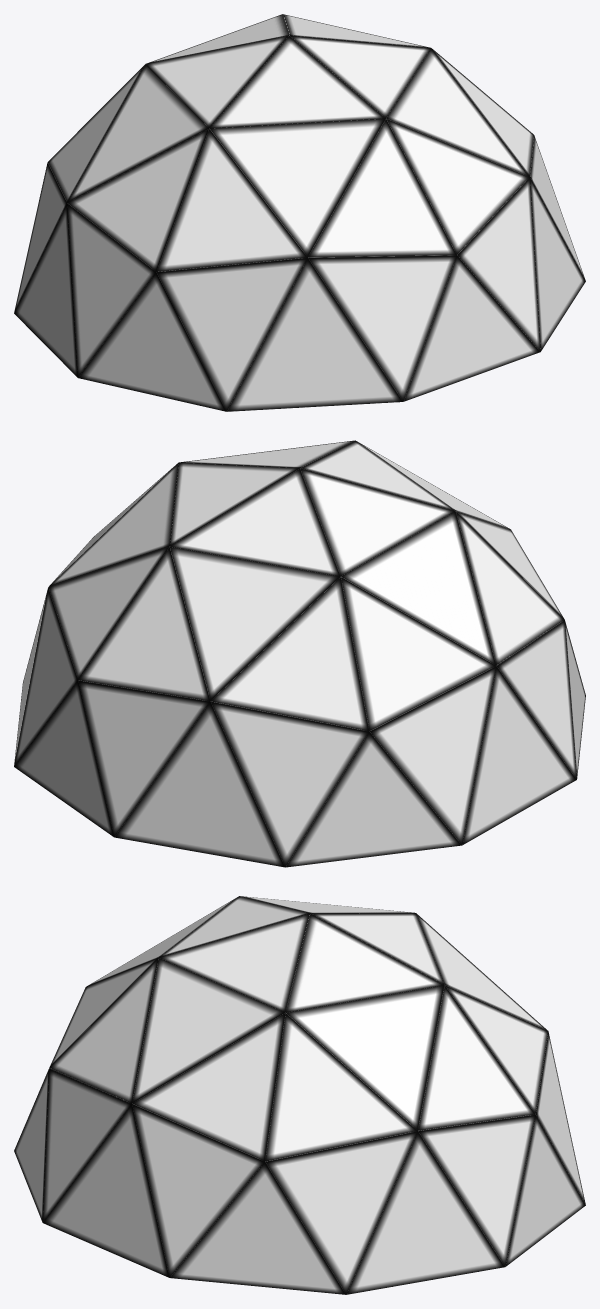
Rendered from dome1.obj.
3 views of the same model, one above another, from view 1: azimuth 30°, elevation 25°; view 2: azimuth 150°, elevation 25°; view 3: azimuth 270°, elevation 25° (orthographic). The views are drawn at different scales.
Parts seen in each view (by area): view 1: Dome1_Cube.010; view 2: Dome1_Cube.010; view 3: Dome1_Cube.010.
Part boxes in pixels (left/top/right/bottom): Dome1_Cube.010: left=14, top=14, right=585, bottom=411; Dome1_Cube.010: left=14, top=440, right=585, bottom=867; Dome1_Cube.010: left=14, top=896, right=585, bottom=1294.
Size of the model in its own units: 0.0358 by 0.0189 by 0.0358.
